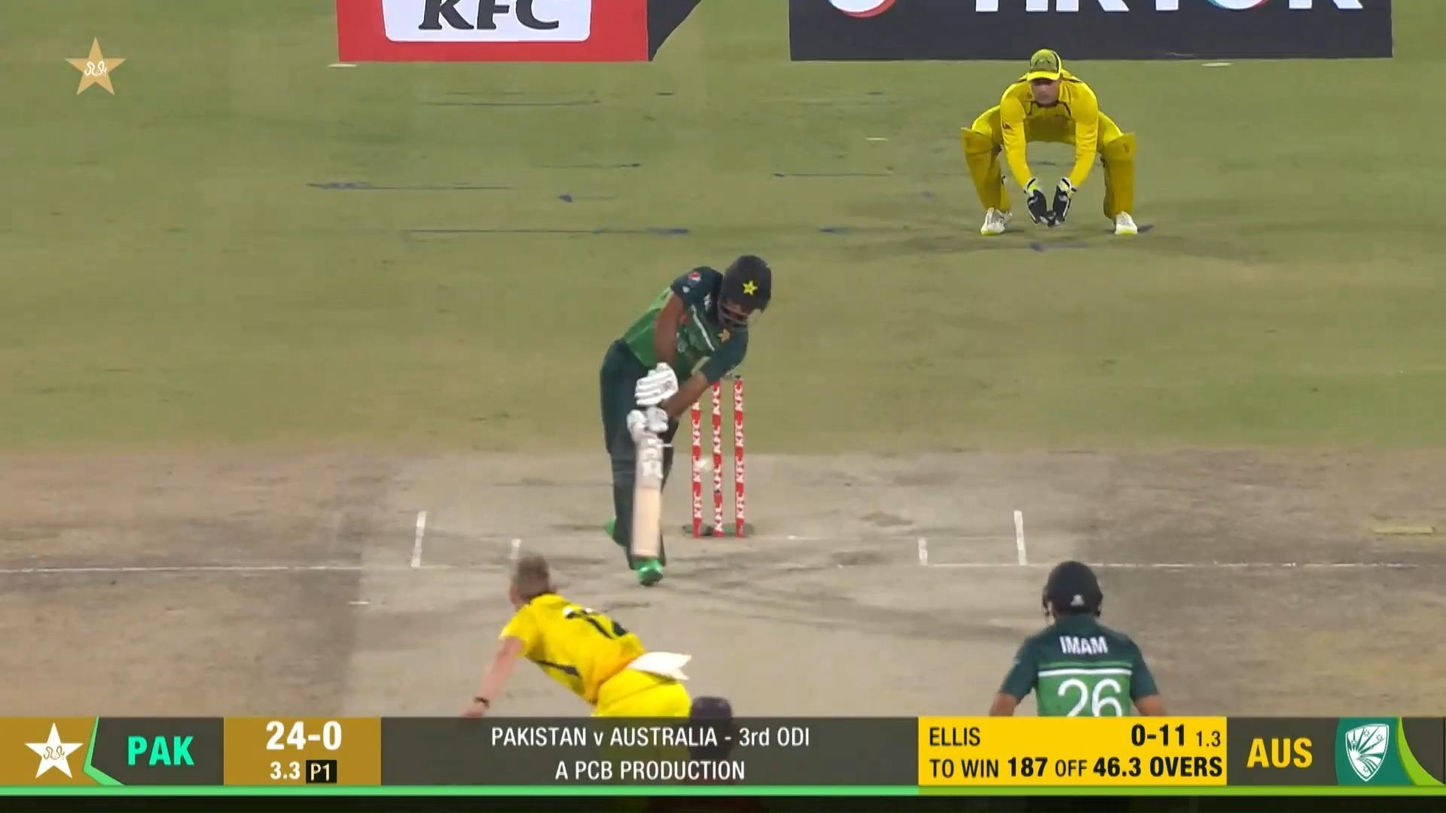BM 1: (600, 254, 773, 587)
BO: (459, 552, 692, 793)
